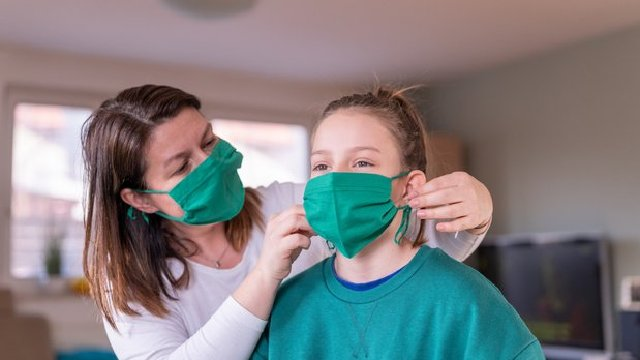with_mask: (132, 118, 246, 229), (299, 137, 401, 260)
